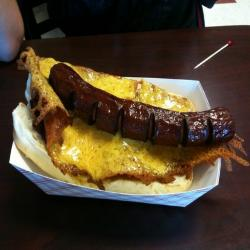hotdog: (10, 53, 240, 193)
